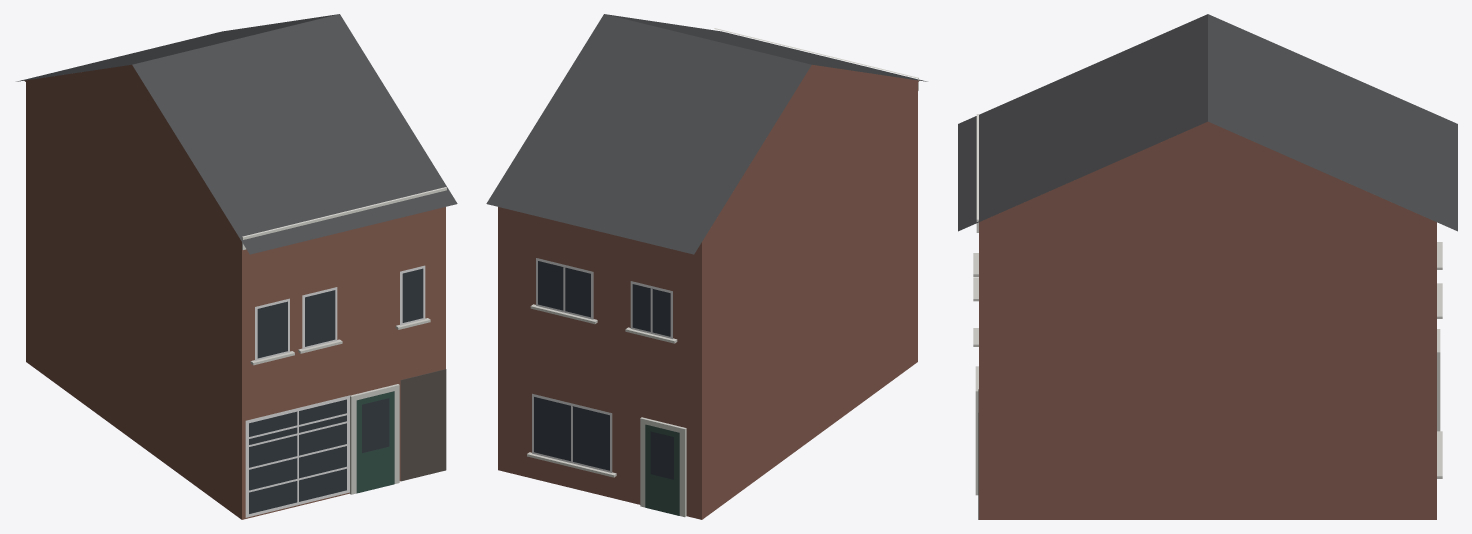
Rendered from nw-ao-hebriden__red__2__gable__long__solid__mirror.glb.
3 views of the same model, side by side, from view 1: azimuth 30°, elevation 25°; view 2: azimuth 150°, elevation 25°; view 3: azimuth 270°, elevation 25° (orthographic). The views are drawn at different scales.
Visible parts, largest first — view 1: nw-ao-hebriden__red__2__gable__long__solid__mirror; view 2: nw-ao-hebriden__red__2__gable__long__solid__mirror; view 3: nw-ao-hebriden__red__2__gable__long__solid__mirror.
Part boxes in pixels (x1,y1,x2,y2): nw-ao-hebriden__red__2__gable__long__solid__mirror: (16, 14, 457, 519); nw-ao-hebriden__red__2__gable__long__solid__mirror: (486, 14, 927, 519); nw-ao-hebriden__red__2__gable__long__solid__mirror: (958, 14, 1457, 519).
Bounding box in the file's own units: 5.48 × 9.5 × 10.77.
